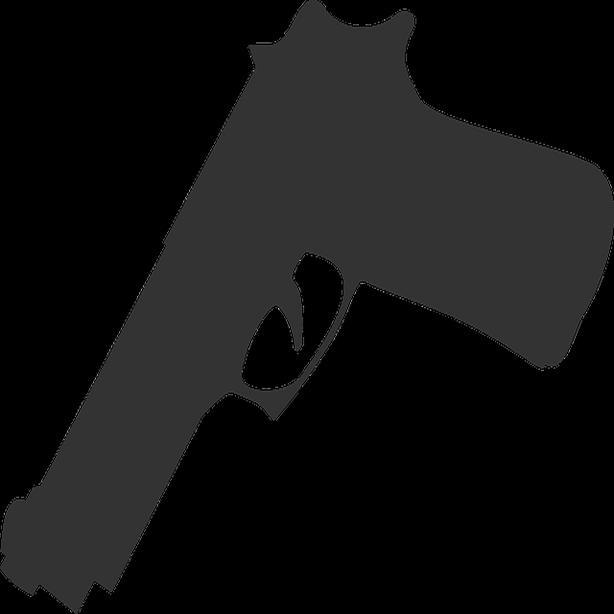Firearm: (5, 2, 614, 614)
